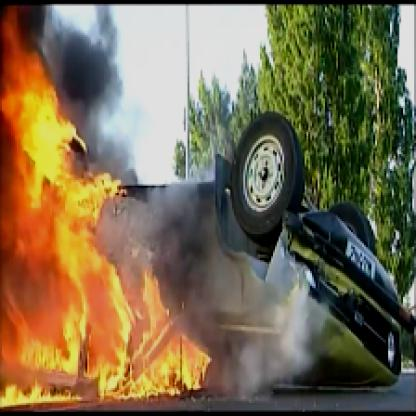Fire: (2, 6, 212, 406)
